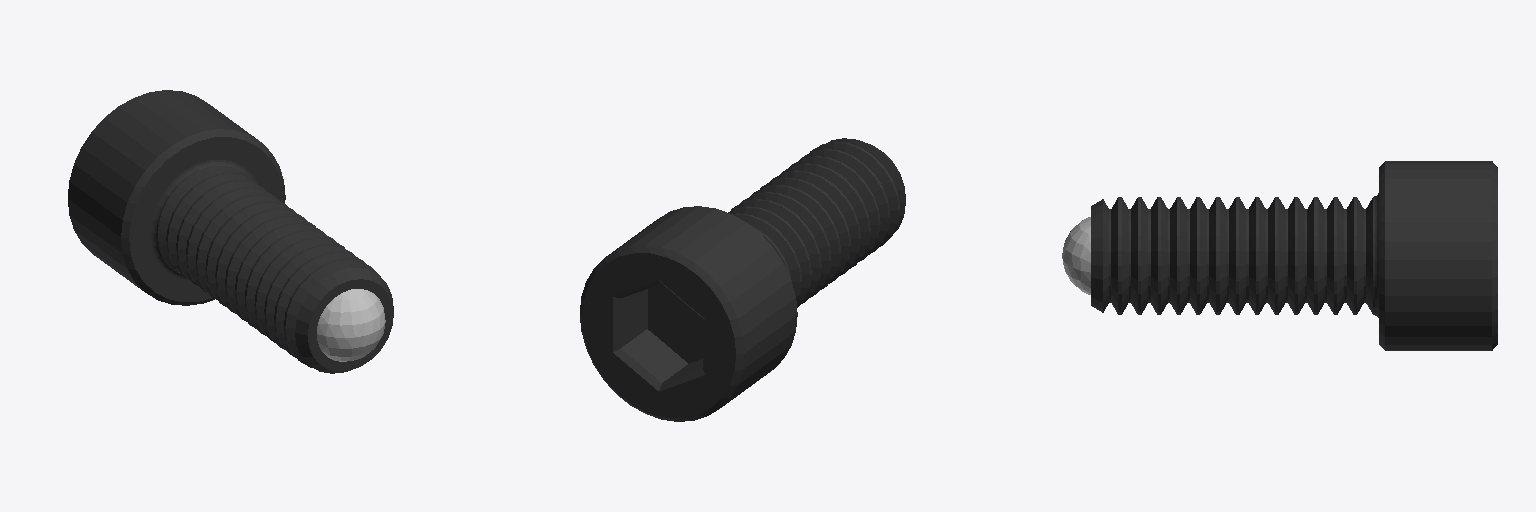
Rendered from bcr-10x25.obj.
The picture shows the model from 3 angles: view 1: azimuth 30°, elevation 25°; view 2: azimuth 150°, elevation 25°; view 3: azimuth 270°, elevation 25°; orthographic projection.
Parts seen in each view (by area): view 1: bcr-10x25_1; view 2: bcr-10x25_1; view 3: bcr-10x25_1.
Part boxes in pixels (x1,y1,x2,y2): bcr-10x25_1: (68,90,393,373); bcr-10x25_1: (580,138,905,421); bcr-10x25_1: (1062,161,1497,350).
Bounding box in the file's own units: 16 × 16 × 36.7.